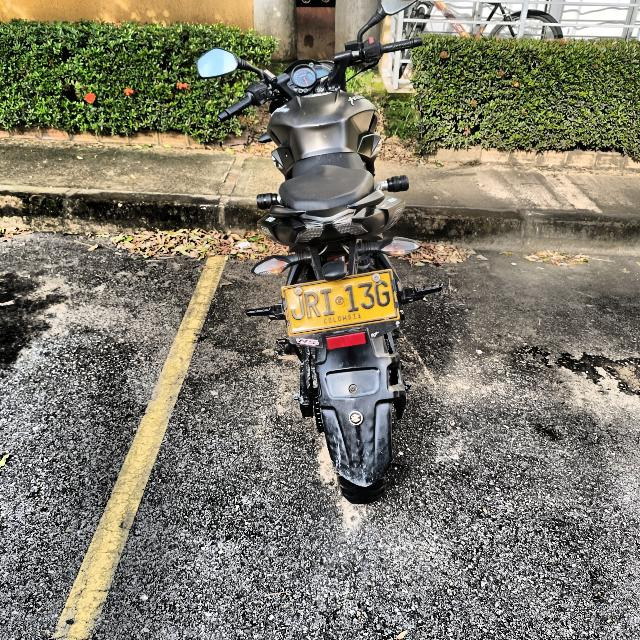plate: (282, 268, 400, 337)
